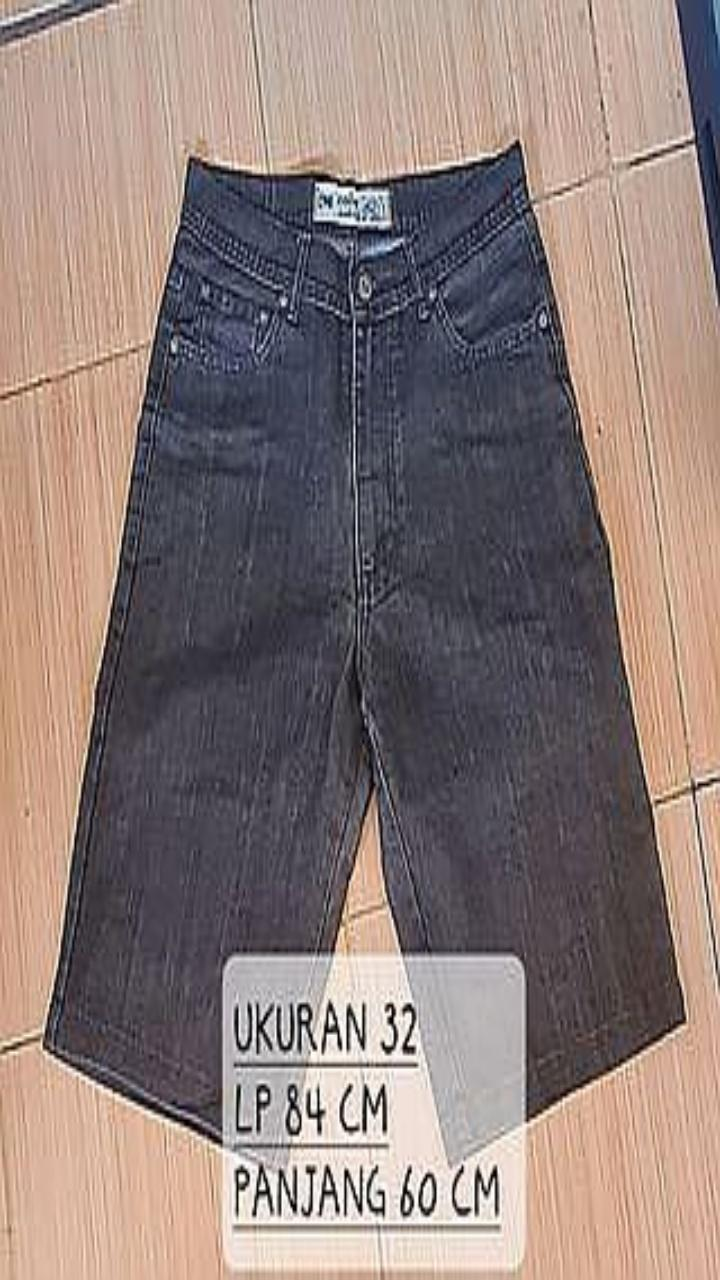Shorts: (43, 142, 684, 1140)
